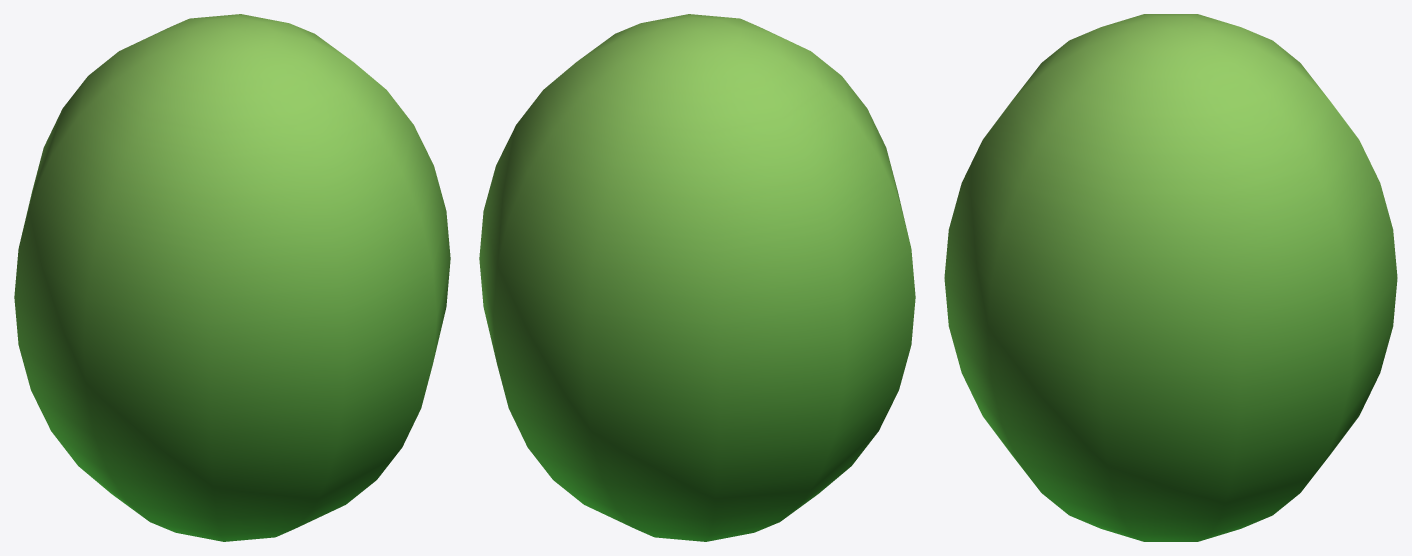
The model's file is watermelon_whole.fbx.
3 views of the same model, side by side, from view 1: azimuth 30°, elevation 25°; view 2: azimuth 150°, elevation 25°; view 3: azimuth 270°, elevation 25° (orthographic).
Parts seen in each view (by area): view 1: watermelon_whole; view 2: watermelon_whole; view 3: watermelon_whole.
Part boxes in pixels (<box>): watermelon_whole: <box>14,14,450,541</box>; watermelon_whole: <box>479,14,915,541</box>; watermelon_whole: <box>944,14,1397,541</box>.
Bounding box in the file's own units: 109 × 140 × 116.
